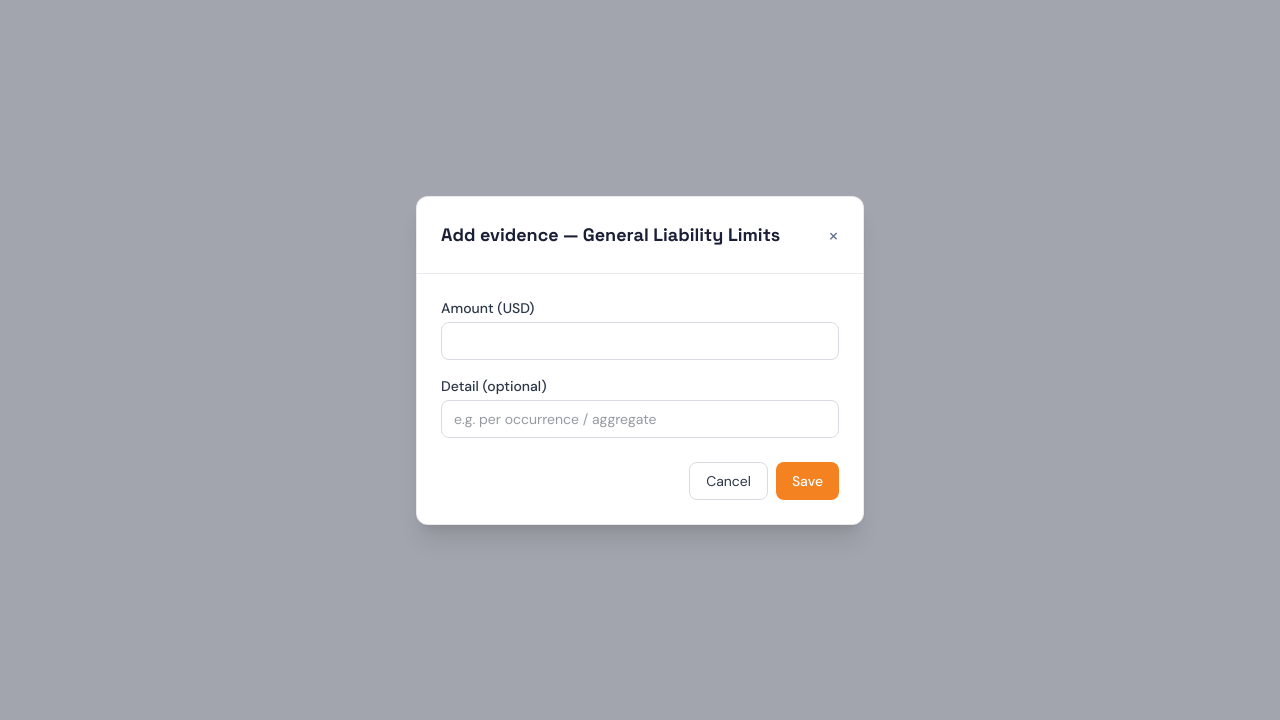
Test: amount element blocks submit with a message when the amount is empty
This screenshot has width=1280, height=720.
Click the button "Save".
click(807, 480)  # box [776,462,839,500]
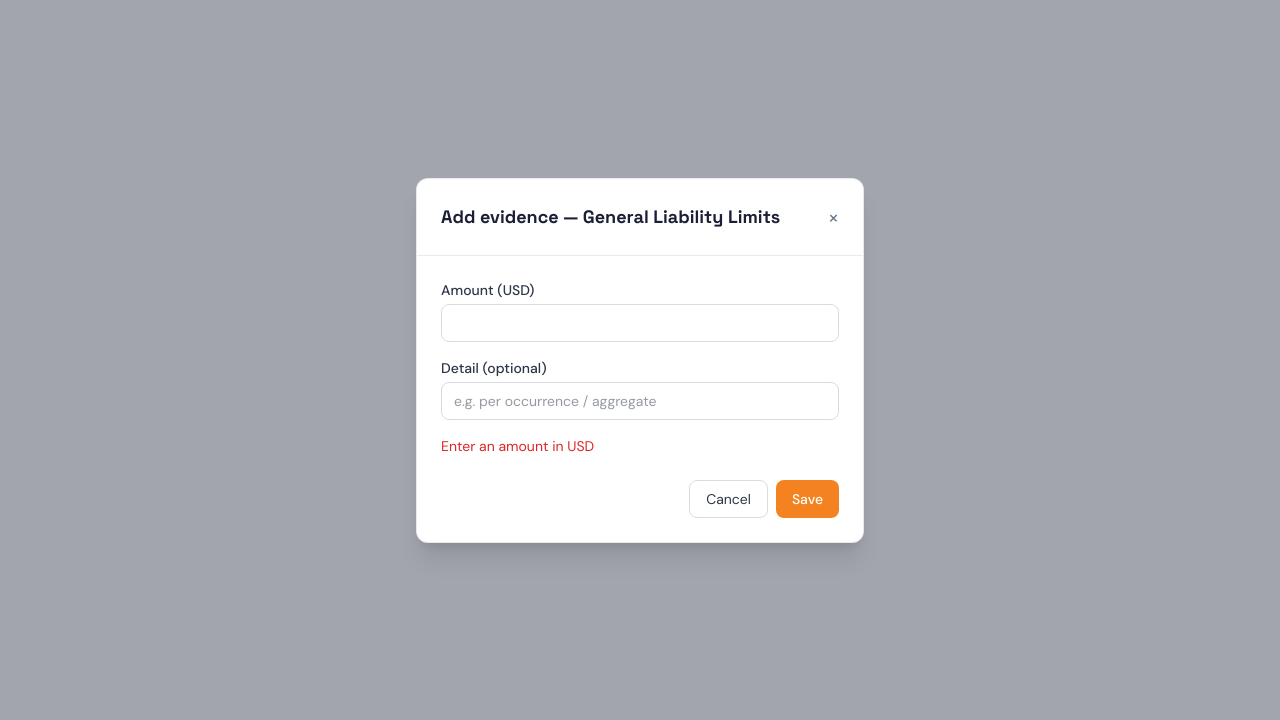
Result: the text "Enter an amount in USD" is shown at [441,436,594,454]
